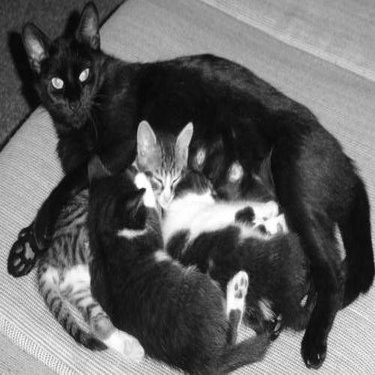cat: (10, 10, 370, 364), (72, 160, 272, 364), (120, 121, 312, 326), (39, 119, 177, 350)
